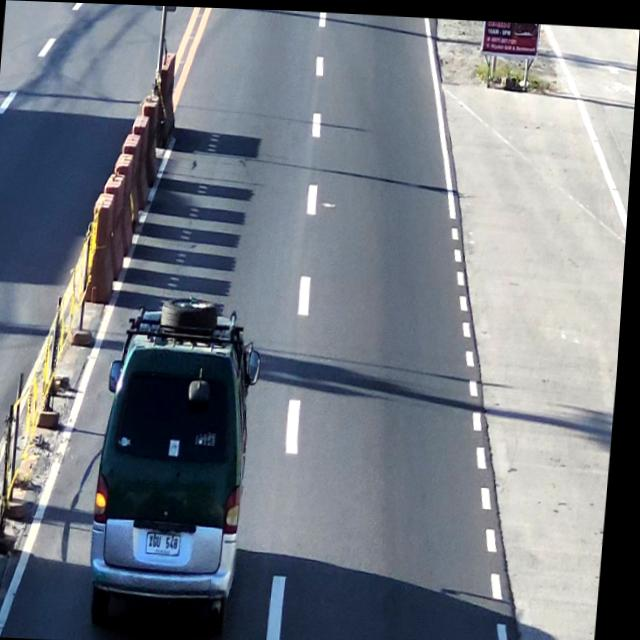Car: (93, 300, 259, 617)
License-Plate: (150, 530, 190, 558)
